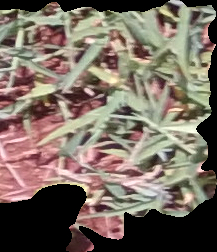grass: (1, 1, 216, 251)
